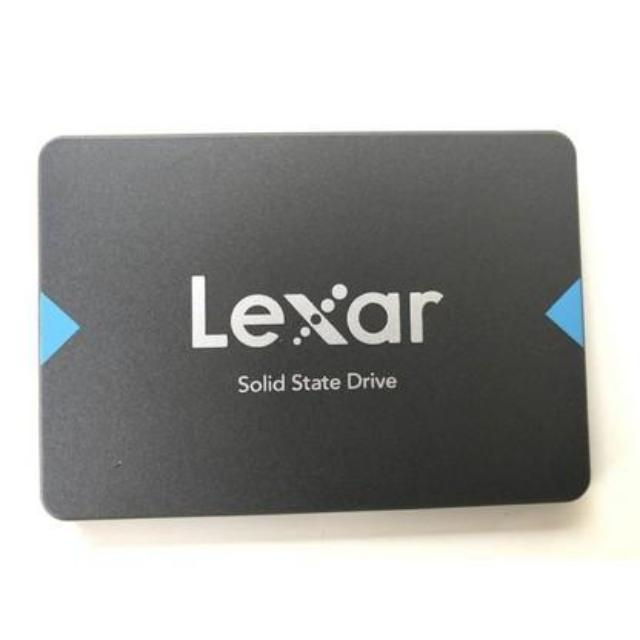DISK: (30, 128, 601, 514)
